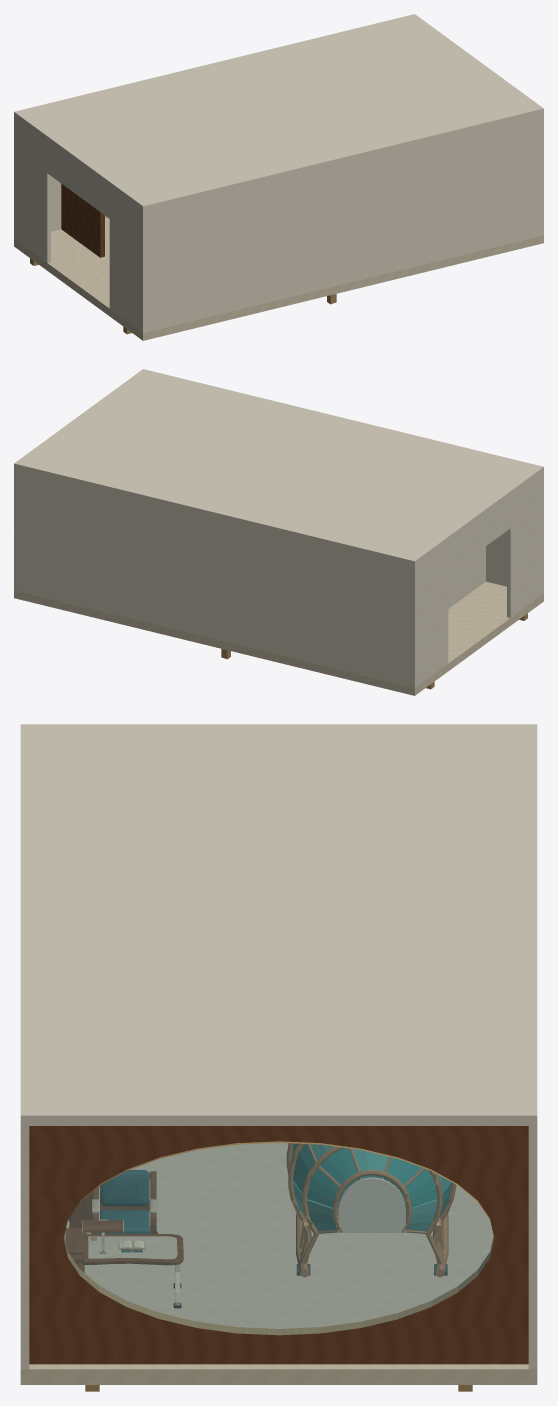
The model's file is StarAtlasSpecialty_437_Production.glb.
The picture shows the model from 3 angles, top to bottom: view 1: azimuth 30°, elevation 25°; view 2: azimuth 150°, elevation 25°; view 3: azimuth 270°, elevation 25°; orthographic projection. The views are drawn at different scales.
Visible parts, largest first — view 1: SA437_Ceiling, SA437_SouthSide, SA437_RoomFloor, SA437_EntryShoulderNorth, SA437_EntryShoulderSouth, SA437_EntryHeader, SA437_EntryPrivacyDogleg, SA437_NorthSide; view 2: SA437_Ceiling, SA437_NorthSide, SA437_RoomFloor, SA437_EntryShoulderSouth, SA437_EntryShoulderNorth, SA437_EntryHeader, SA437_WashEntrySide, SA437_SouthSide; view 3: SA437_Ceiling, SA437_OvalAtriumGlass, SA437_OvalWindowReveal, SA437_RoomFloor, SA437_OvalDepthReturn, SA437_ReservedRestSupport__Rear ivory acoustic diffuser, SA437_NorthSide, SA437_SouthSide, SA437_LibraryStudyEdge__SINGLE_inset_stone_writing_surface, SA437_DayReadingChair__DAY_CHAIR_single_reclined_back_cushio, SA437_LibraryStudyEdge__SINGLE_carved_walnut_writing_edge, SA437_ReservedRestSupport__Exposed ash hood rib 04 (+5 smaller).
Part boxes in pixels (x1,y1,x2,y2): SA437_Ceiling: (14,14,543,211); SA437_SouthSide: (141,114,543,332); SA437_RoomFloor: (14,218,543,340); SA437_EntryShoulderNorth: (16,119,50,262); SA437_EntryShoulderSouth: (109,187,140,331); SA437_EntryHeader: (47,141,110,218); SA437_EntryPrivacyDogleg: (61,184,104,257); SA437_NorthSide: (14,117,107,239); SA437_Ceiling: (14,369,543,566); SA437_NorthSide: (14,469,416,687); SA437_RoomFloor: (14,581,543,695); SA437_EntryShoulderSouth: (507,474,541,617); SA437_EntryShoulderNorth: (417,543,448,686); SA437_EntryHeader: (447,496,511,574); SA437_WashEntrySide: (448,546,485,608); SA437_SouthSide: (486,472,543,594); SA437_Ceiling: (20,724,537,1125); SA437_OvalAtriumGlass: (64,1143,493,1334); SA437_OvalWindowReveal: (29,1126,528,1364); SA437_RoomFloor: (20,1143,537,1384); SA437_OvalDepthReturn: (63,1141,494,1335); SA437_ReservedRestSupport__Rear ivory acoustic diffuser: (338,1177,405,1232); SA437_NorthSide: (528,1126,537,1369); SA437_SouthSide: (20,1126,29,1369); SA437_LibraryStudyEdge__SINGLE_inset_stone_writing_surface: (88,1236,177,1259); SA437_DayReadingChair__DAY_CHAIR_single_reclined_back_cushio: (100,1170,150,1205); SA437_LibraryStudyEdge__SINGLE_carved_walnut_writing_edge: (83,1234,183,1265); SA437_ReservedRestSupport__Exposed ash hood rib 04: (301,1146,442,1234).
Size of the model in its own units: 12.9 by 4.91 by 7.2.
Materials: 58 (43 with a texture image).
